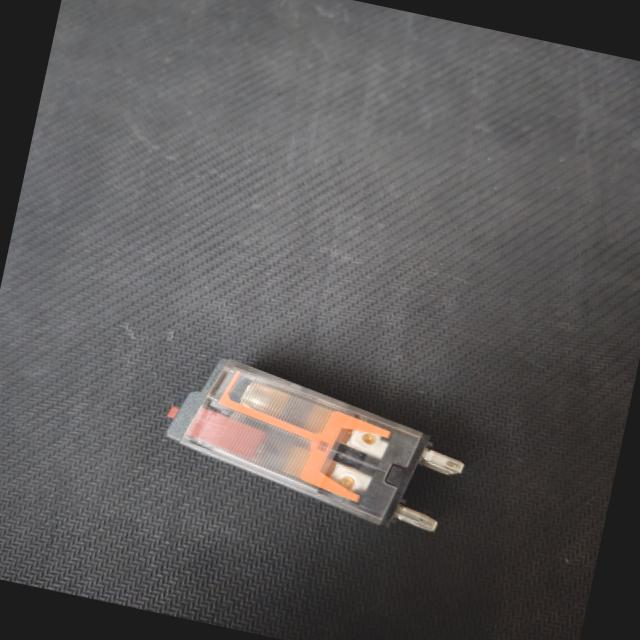relay: (130, 332, 488, 554)
